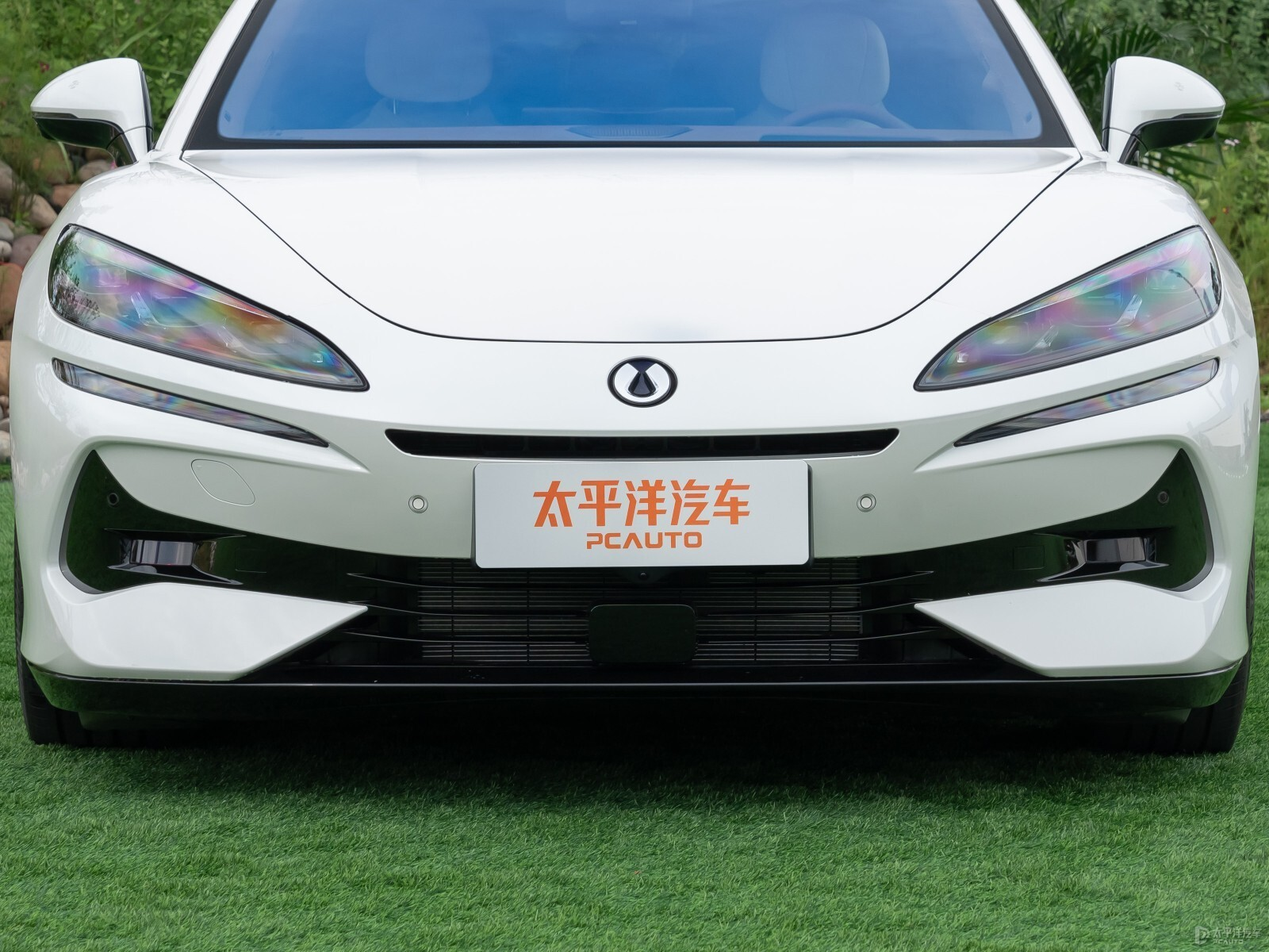DENZA: (615, 363, 669, 401)
